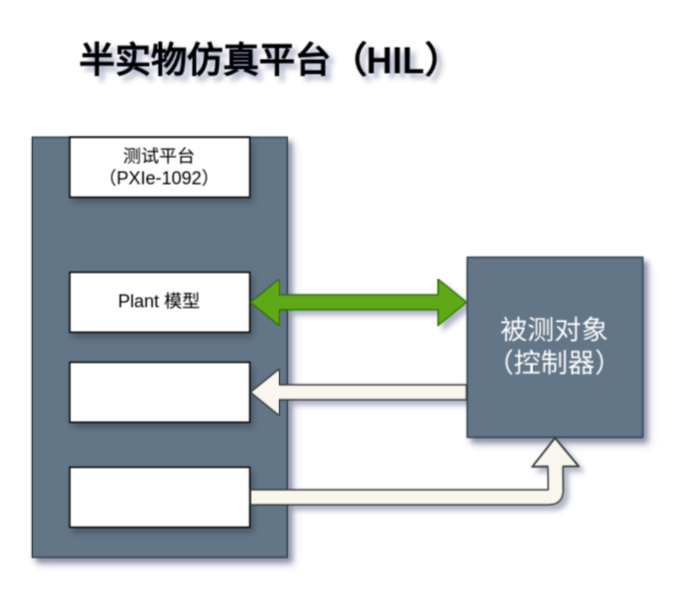
Some shapes in this 687 by 603 pixel diagram are drawn without their labels. The shapes that lost their labels are listed below. From the top down, each one's centre as x and y in pixels, then its label:
At point 160,394: "数据记录/分析".
At point 160,499: "激励文件".
